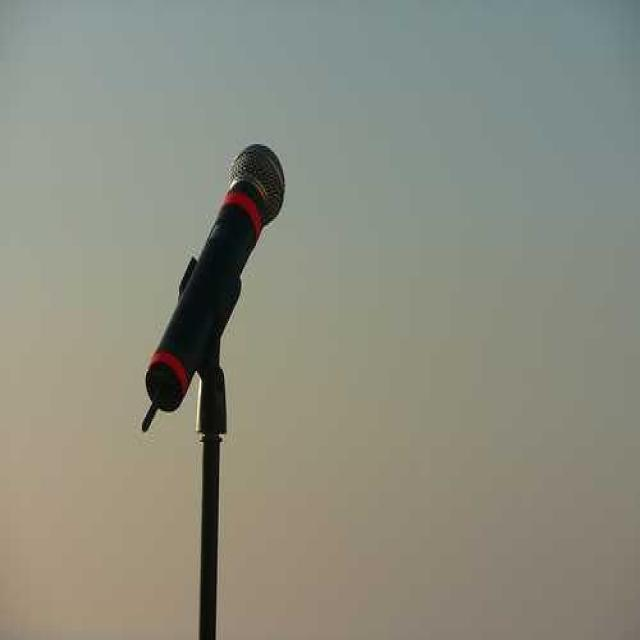microphone: (143, 143, 288, 419)
